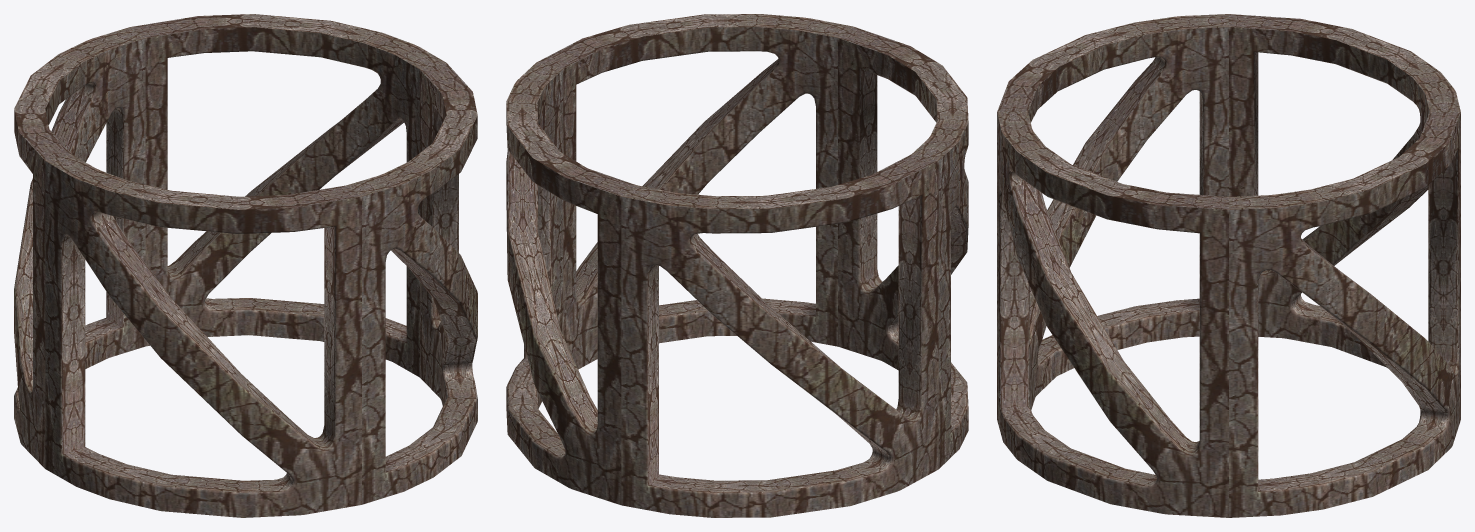
Rendered from Ring_cyl.FBX.
The picture shows the model from 3 angles, left to right: view 1: azimuth 30°, elevation 25°; view 2: azimuth 150°, elevation 25°; view 3: azimuth 270°, elevation 25°; orthographic projection.
Parts seen in each view (by area): view 1: Ring_cyl; view 2: Ring_cyl; view 3: Ring_cyl.
Part boxes in pixels (x1,y1,x2,y2): Ring_cyl: [14, 14, 477, 517]; Ring_cyl: [506, 14, 968, 517]; Ring_cyl: [997, 14, 1460, 517].
Bounding box in the file's own units: 5.46 × 5.46 × 4.
